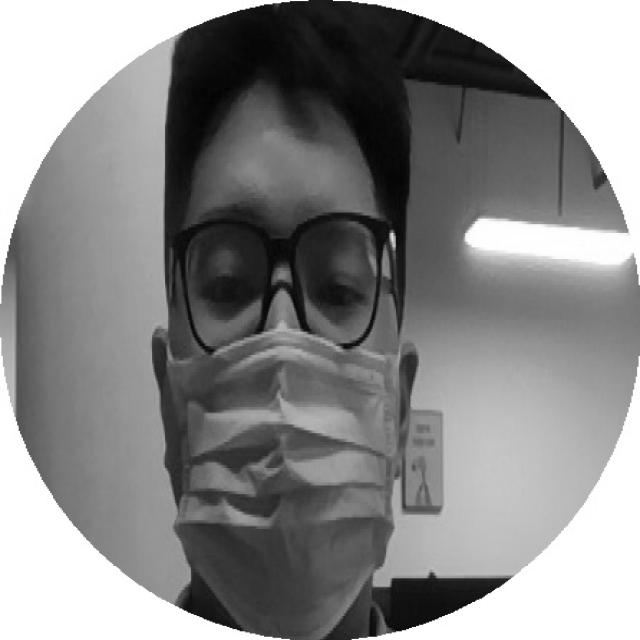fake: (169, 326, 393, 640)
real: (183, 205, 381, 342)
